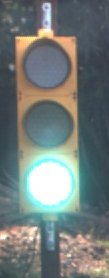Green: (12, 23, 96, 229)
